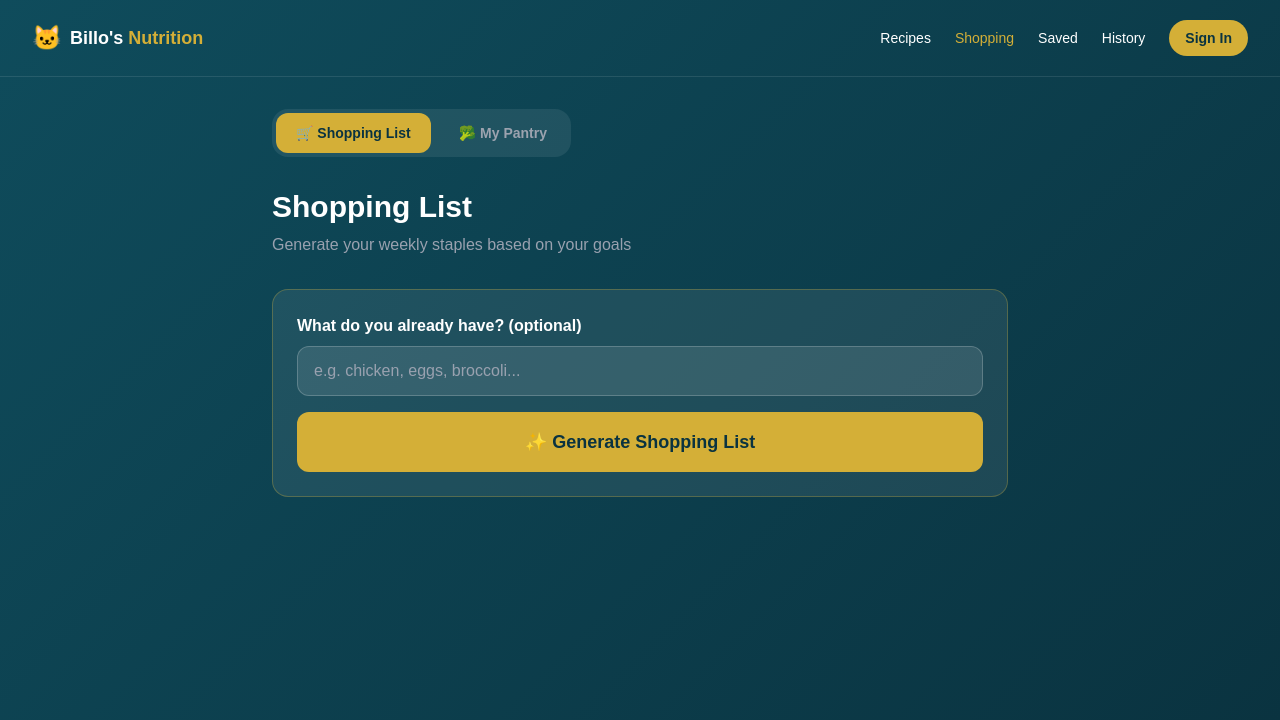
Test: ShoppingPage — Shopping tab › shows guest prompt when guest tries to generate
Step 1. Click the button "✨ Generate Shopping List" → (640, 442), box [297,412,983,472]
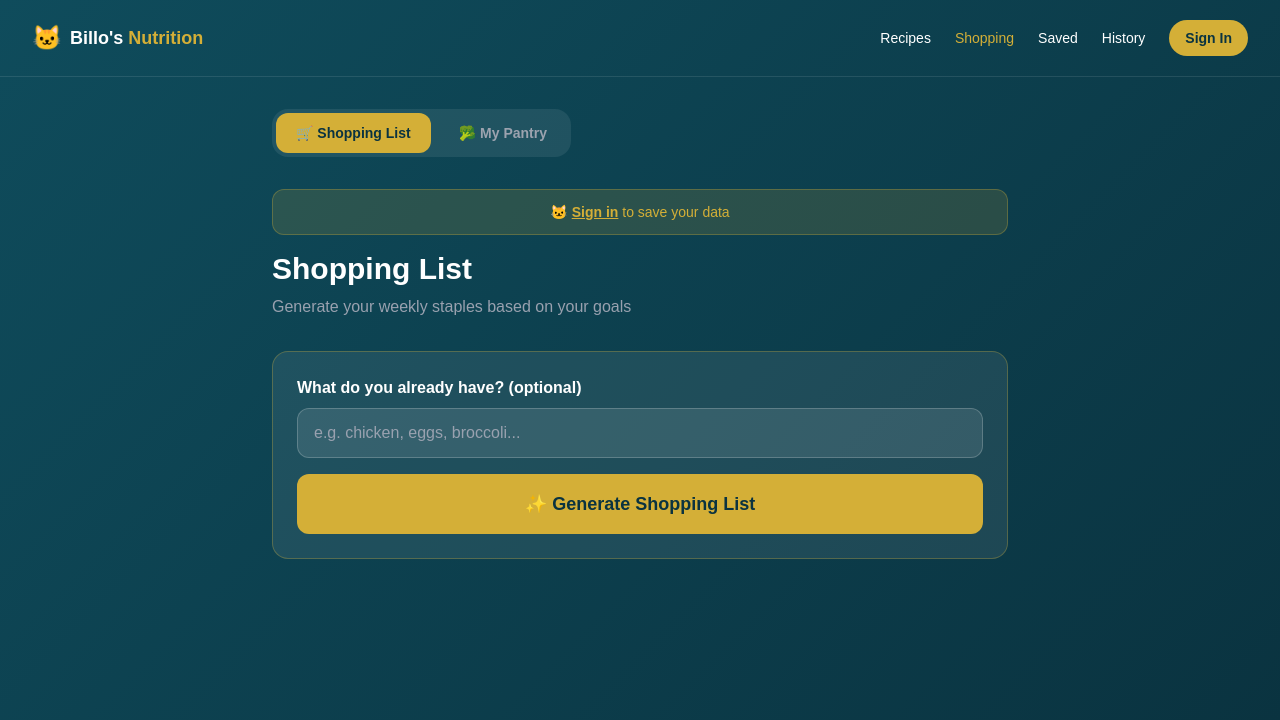
Expected: the link "Sign in" is shown, [572,204,618,220]
